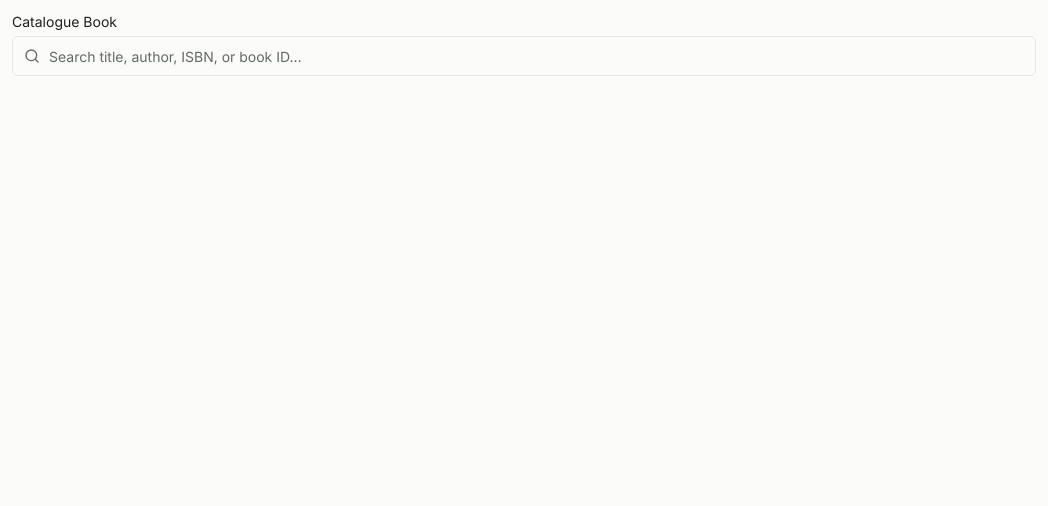
Test case: CatalogueSelector › renders PDF verification states for verified, unsafe, linked, and missing files
This screenshot has width=1048, height=506.
Focus the field named "Catalogue Book": (524, 56) [12,36,1036,76]
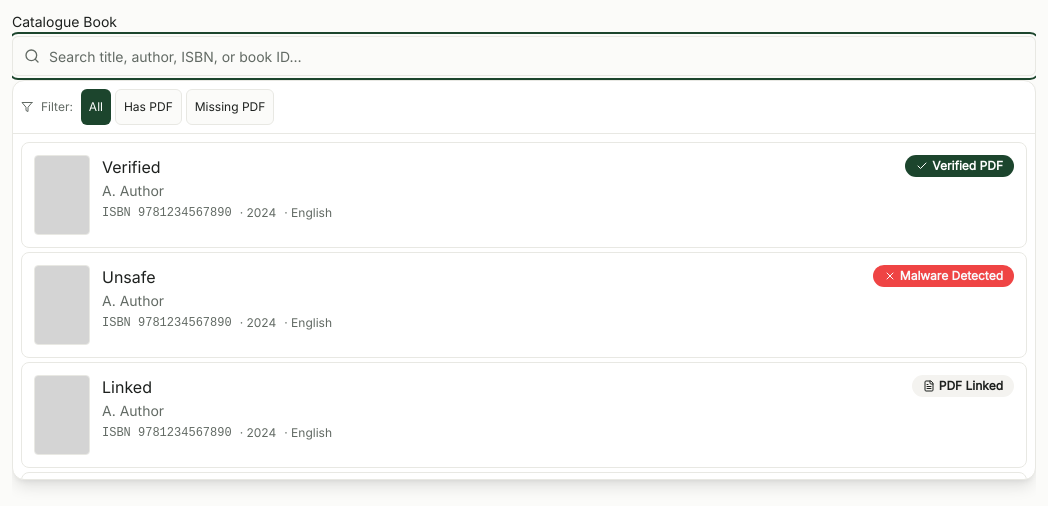
Expected: the text "Verified PDF" is shown, [905,155,1014,177]
Expected: the text "Malware Detected" is shown, [873,265,1014,287]
Expected: the text "PDF Linked" is shown, [912,375,1014,397]
